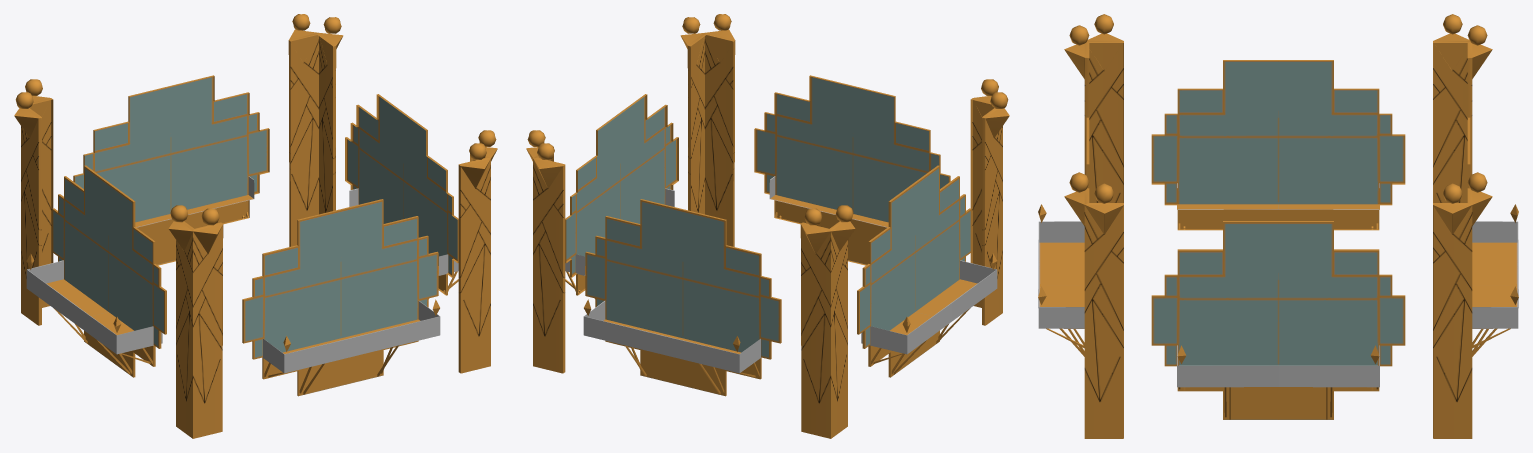
Rendered from ModularBuilding_1_v1.fbx.
3 views of the same model, side by side, from view 1: azimuth 30°, elevation 25°; view 2: azimuth 150°, elevation 25°; view 3: azimuth 270°, elevation 25° (orthographic). The views are drawn at different scales.
Parts seen in each view (by area): view 1: polySurface461 (×8), polySurface466 (×4), polySurface464 (×5); view 2: polySurface461 (×8), polySurface466 (×4), polySurface464 (×5); view 3: polySurface461 (×4), polySurface466 (×4), polySurface464 (×8).
Part boxes in pixels (box(x1,y1,x2,y2)): polySurface461 (×8): box(52, 75, 458, 396); polySurface466 (×4): box(14, 30, 497, 438); polySurface464 (×5): box(26, 176, 440, 373); polySurface461 (×8): box(565, 75, 971, 396); polySurface466 (×4): box(526, 30, 1009, 438); polySurface464 (×5): box(583, 176, 997, 373); polySurface461 (×4): box(1151, 60, 1405, 419); polySurface466 (×4): box(1064, 33, 1492, 438); polySurface464 (×8): box(1038, 183, 1518, 387).
Bounding box in the file's own units: 2726 × 1609 × 2726.
